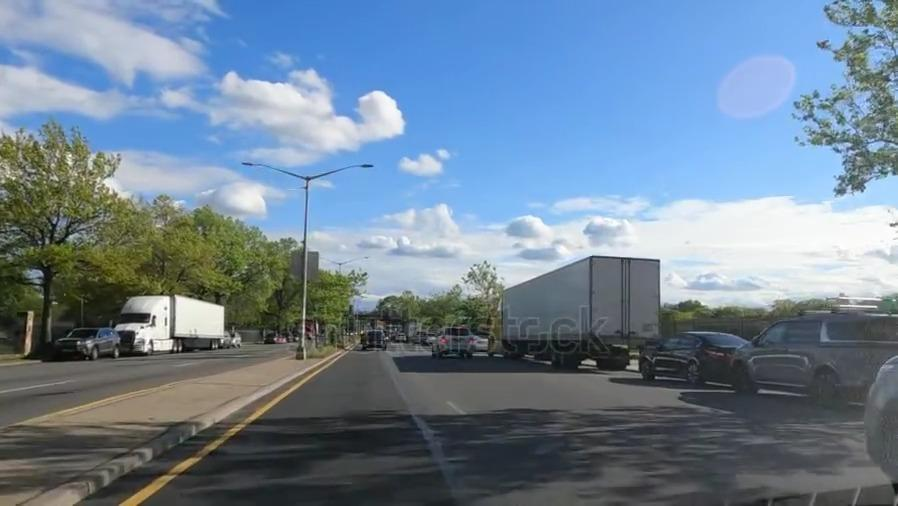car: (748, 314, 888, 393), (643, 331, 739, 384), (55, 328, 120, 359), (433, 325, 473, 357), (365, 330, 385, 350), (476, 335, 488, 352), (219, 331, 230, 348), (230, 331, 241, 347)
truck: (491, 258, 659, 363), (119, 295, 224, 353)
